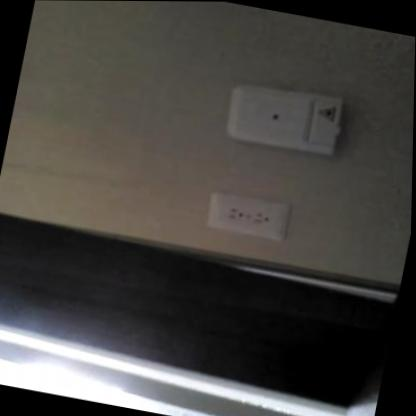OUTLET: (202, 188, 291, 242)
